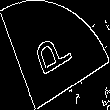P_SW: (32, 27, 78, 83)
